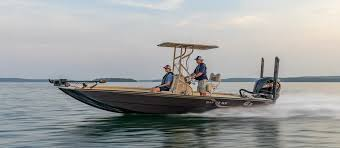boat: (49, 41, 283, 116)
